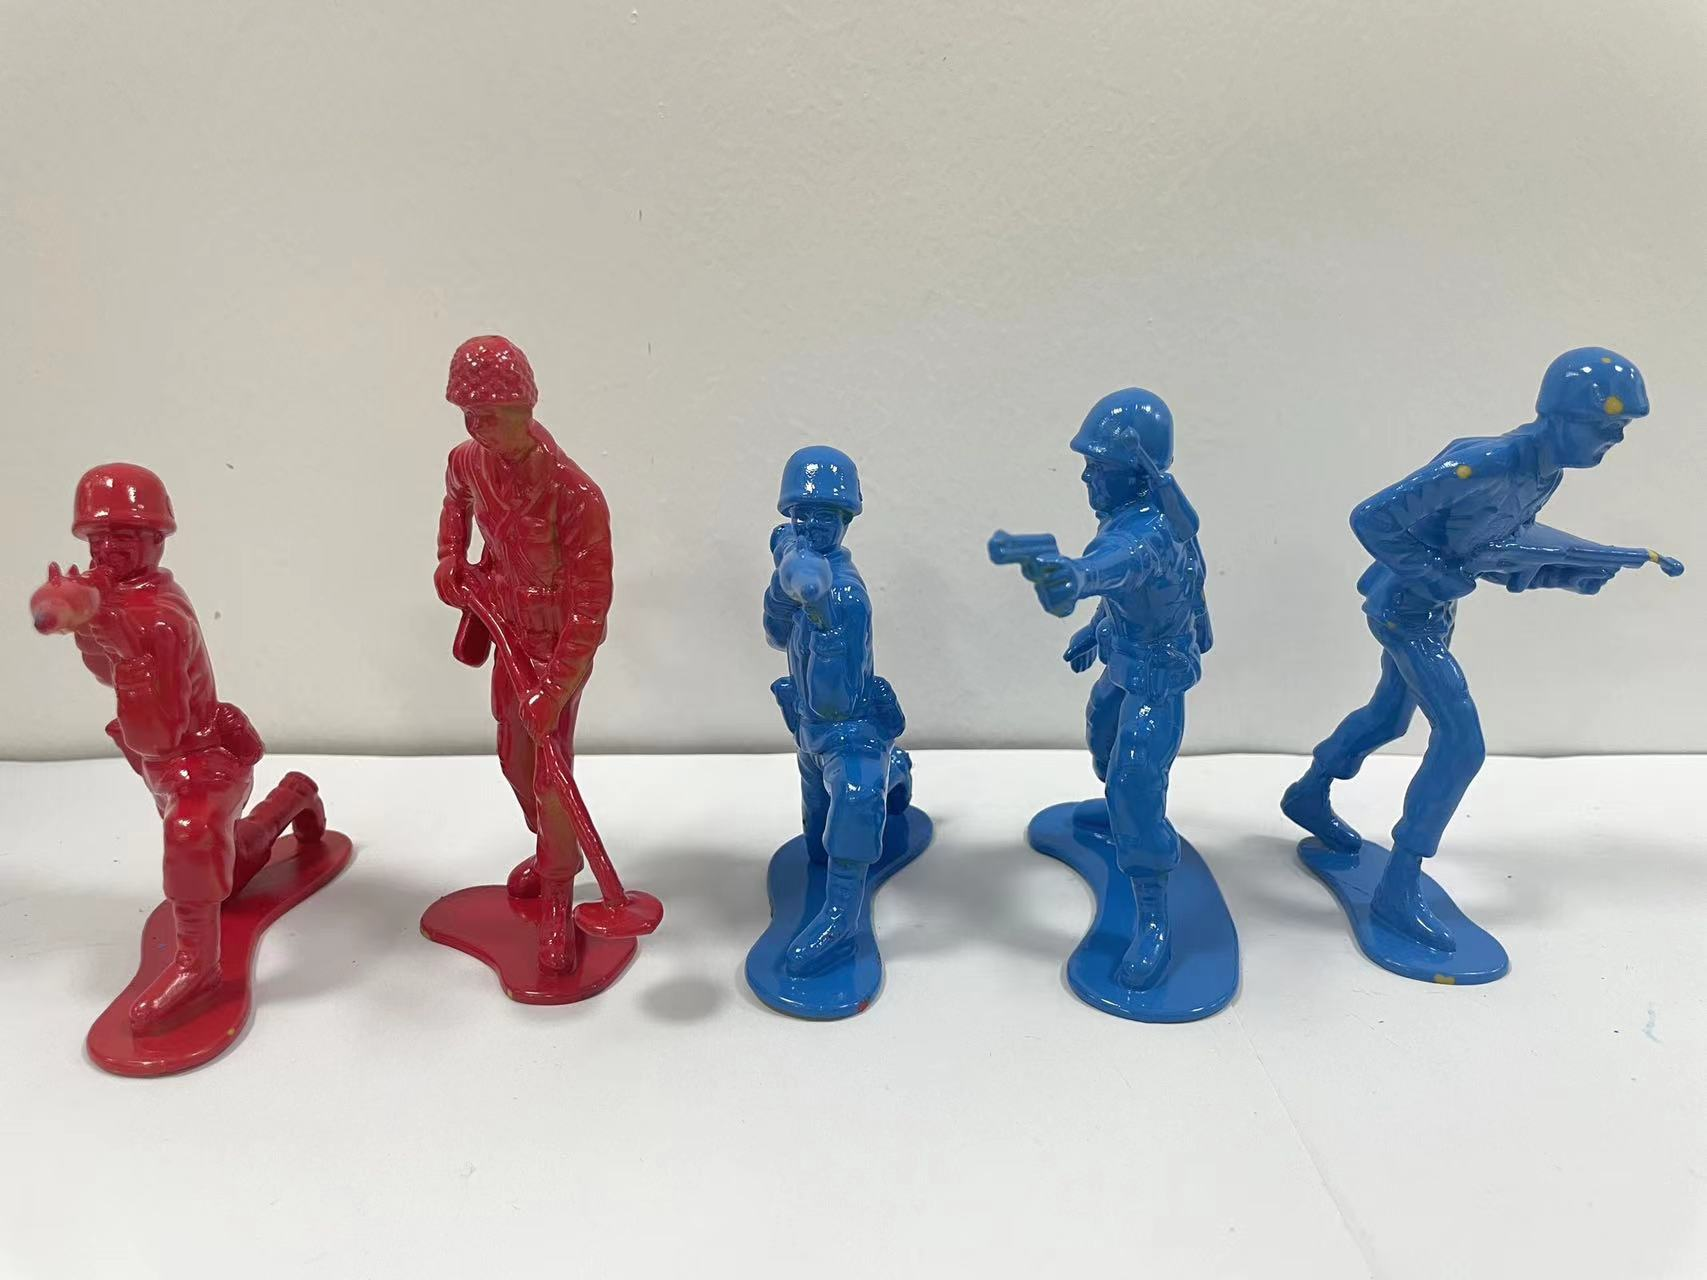blue: (1277, 298, 1681, 1027), (988, 364, 1269, 1072), (712, 409, 970, 1074)
red: (370, 294, 698, 1094)
